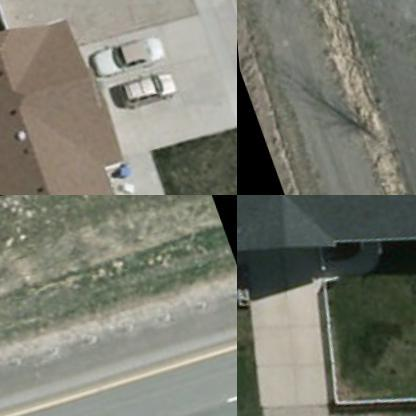car: (77, 30, 169, 88), (112, 72, 172, 113)
